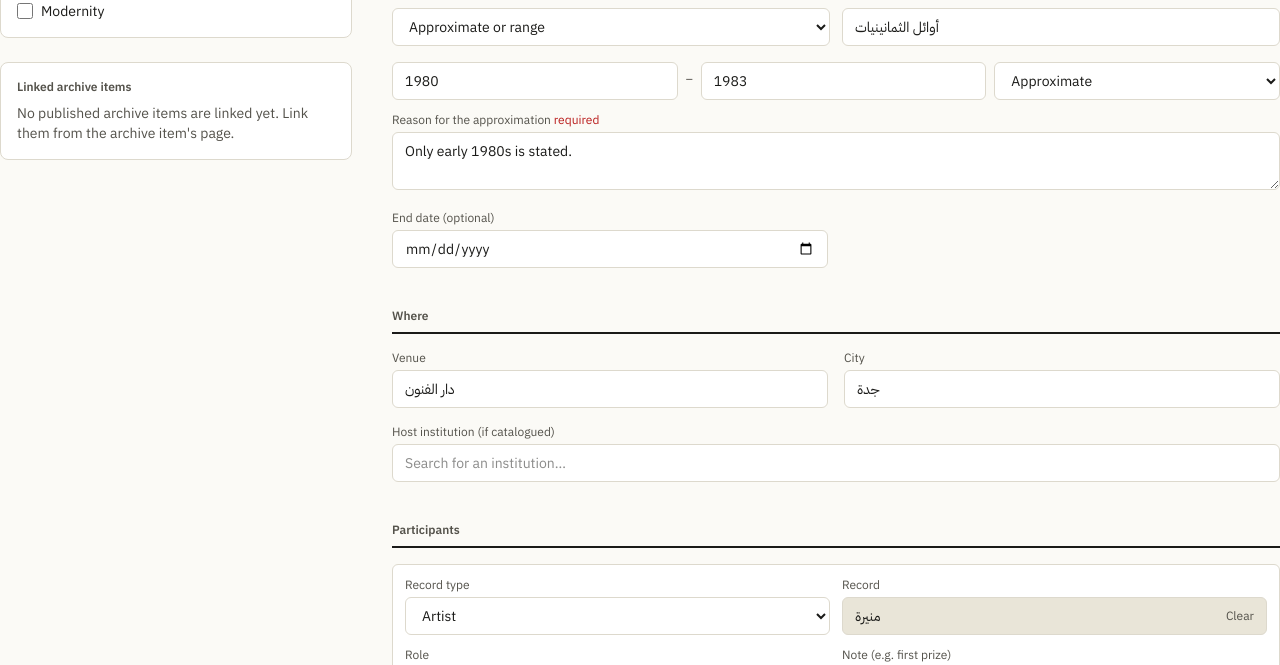
EventEditPage (edit) › draft mode (proposals.submit) › saves fields and participants through saveDraft, keeping the theme sync direct
The width and height of the screenshot is (1280, 665).
(page scrolled)
Replace the text in the field with test id "venue" with "New Wing" at [610, 389], box top-left (392, 370), bottom-right (828, 408)
(page scrolled)
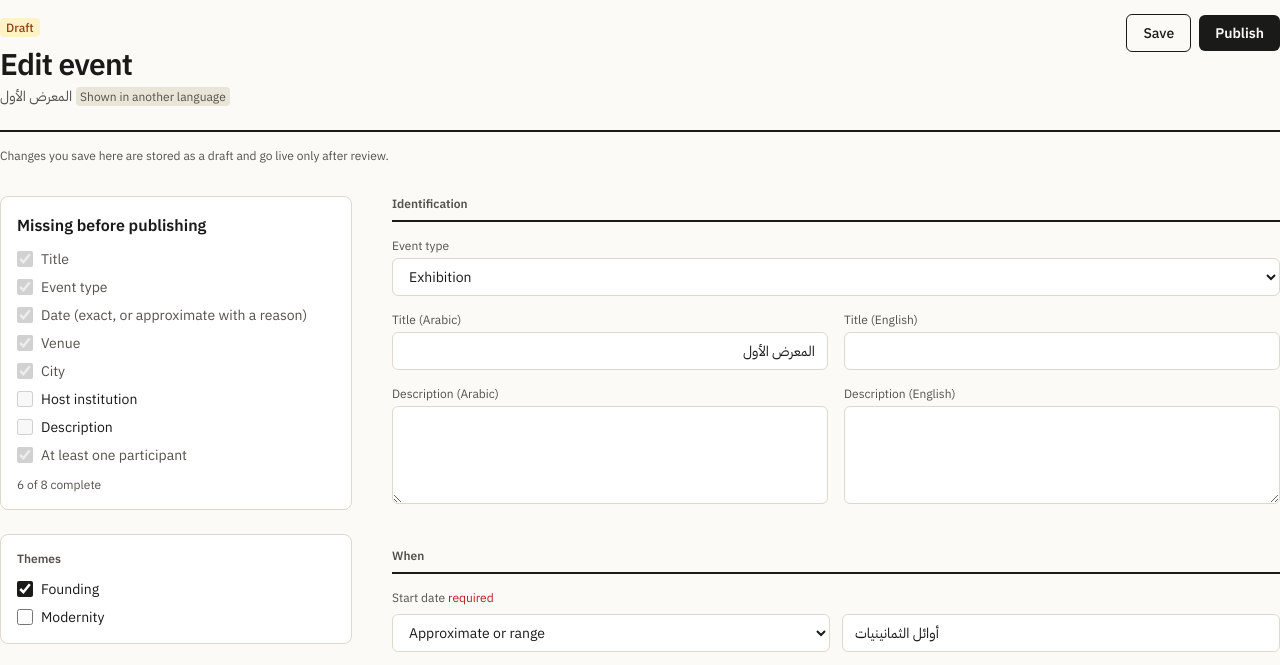
Click the button with test id "save".
click(1159, 33)  # box top-left (1126, 14), bottom-right (1191, 52)
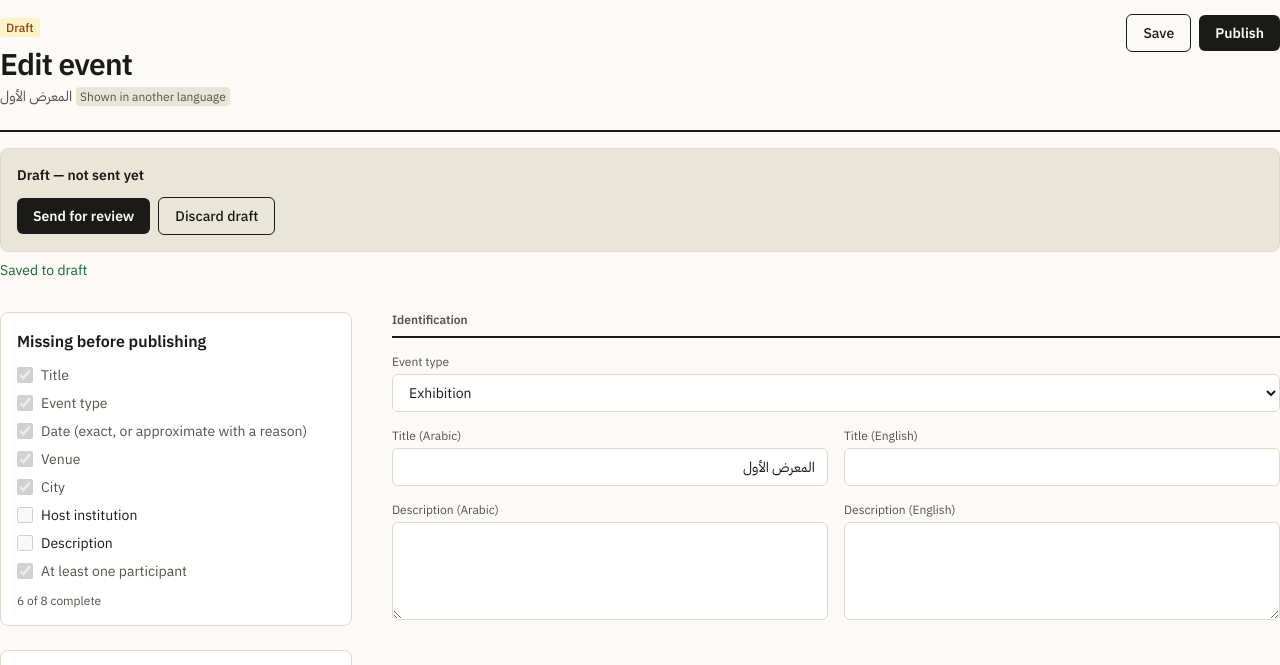
Expected: the text with test id "saved-feedback" reads "Saved to draft", top-left (0, 261), bottom-right (88, 279)
